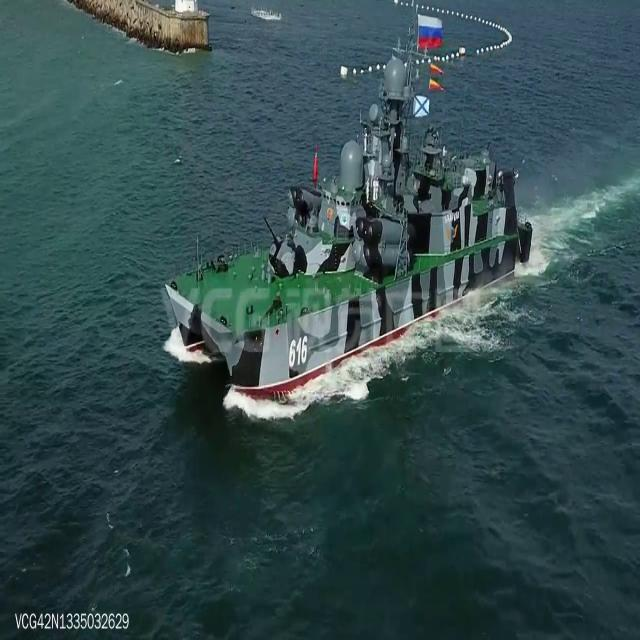navalvessels: (161, 24, 533, 402)
